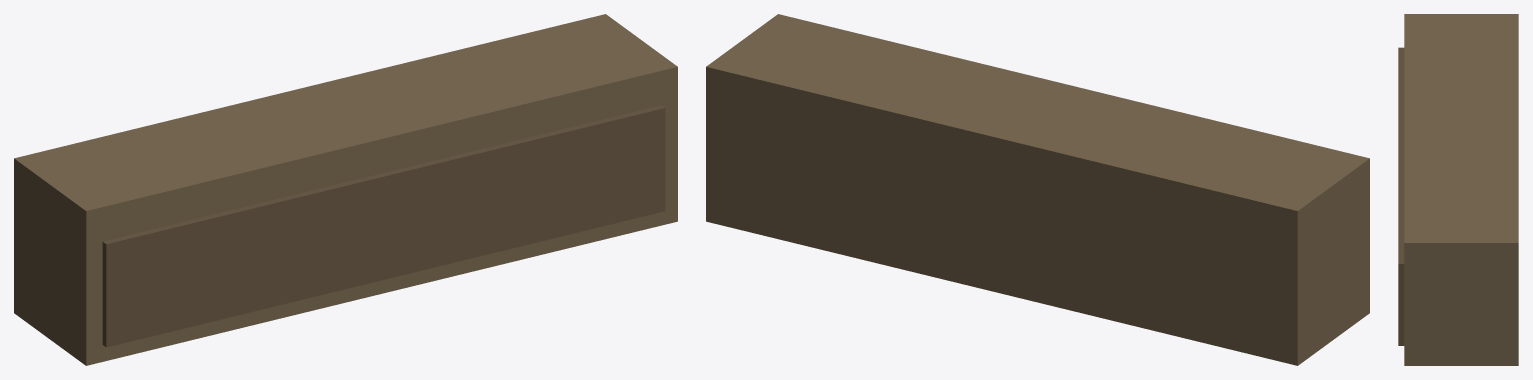
Rendered from tvstand.glb.
3 renders of one model, left to right at view 1: azimuth 30°, elevation 25°; view 2: azimuth 150°, elevation 25°; view 3: azimuth 270°, elevation 25°, orthographic. The views are drawn at different scales.
Parts seen in each view (by area): view 1: tvstand; view 2: tvstand; view 3: tvstand.
Part boxes in pixels (x1,y1,x2,y2): tvstand: (14,14,677,365); tvstand: (706,14,1369,365); tvstand: (1398,14,1518,365).
Bounding box in the file's own units: 1.8 × 0.45 × 0.4.
